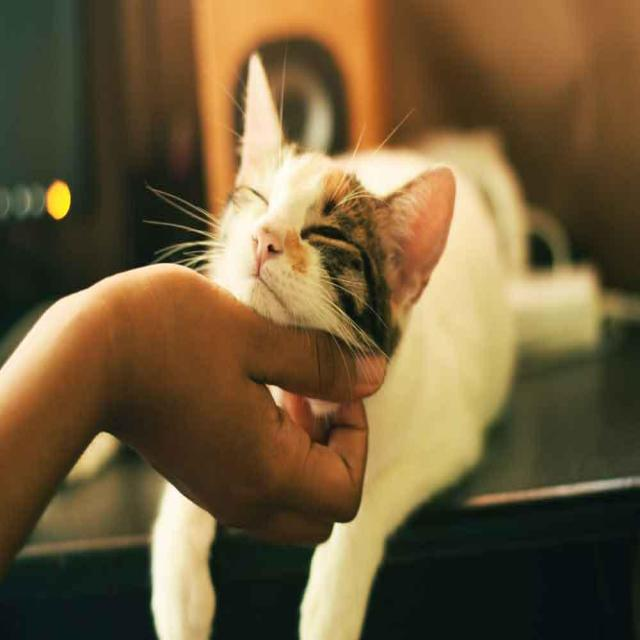Cat: (188, 42, 461, 411)
